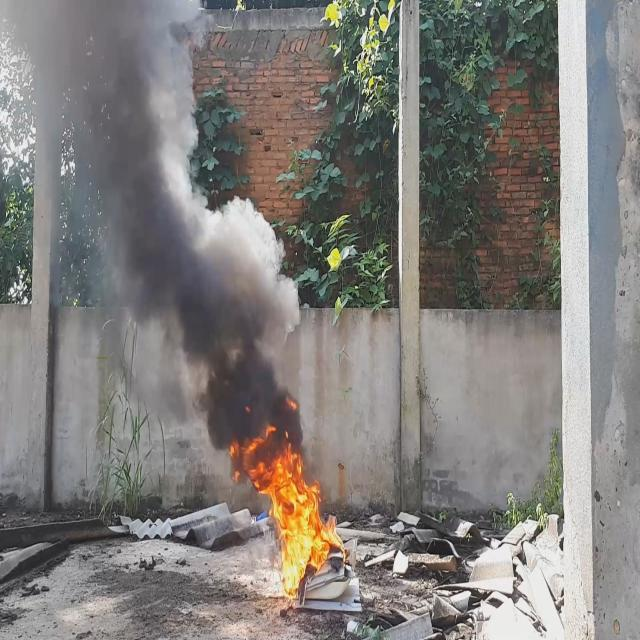Fire: (233, 432, 336, 594)
Smoke: (0, 0, 302, 458)
